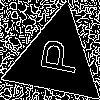P: (30, 35, 80, 77)
